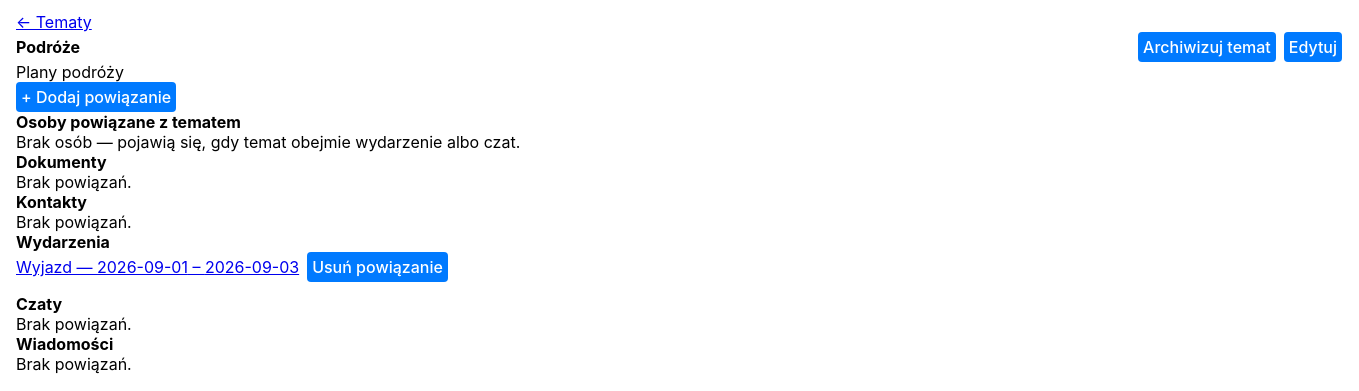
TopicDetail › archives and restores from presentation
The image size is (1359, 391).
Expected: the heading "Podróże" is shown, [16,37,80,57]
Click the button "Archiwizuj temat".
click(1207, 47)  # box [1138,32,1276,62]
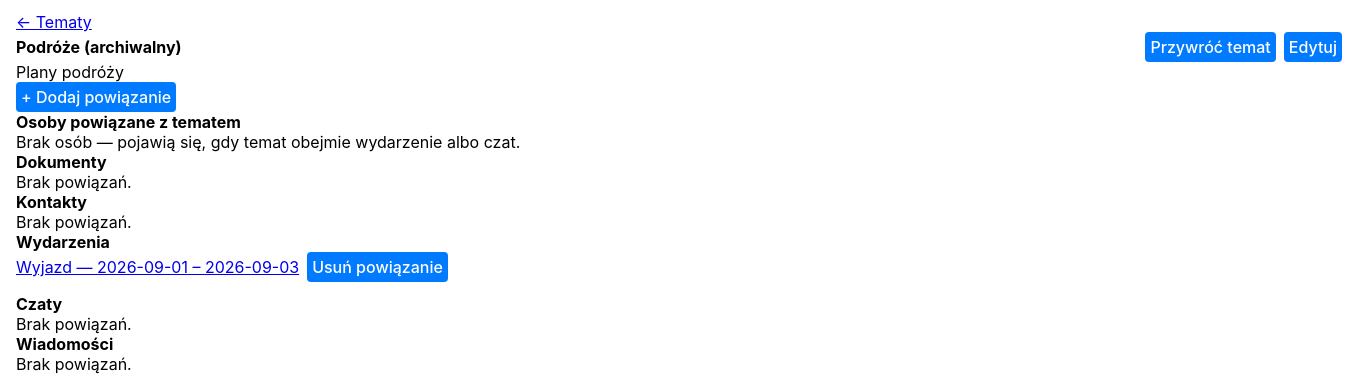
Click the button "Przywróć temat".
click(1211, 47)  # box [1146,32,1276,62]
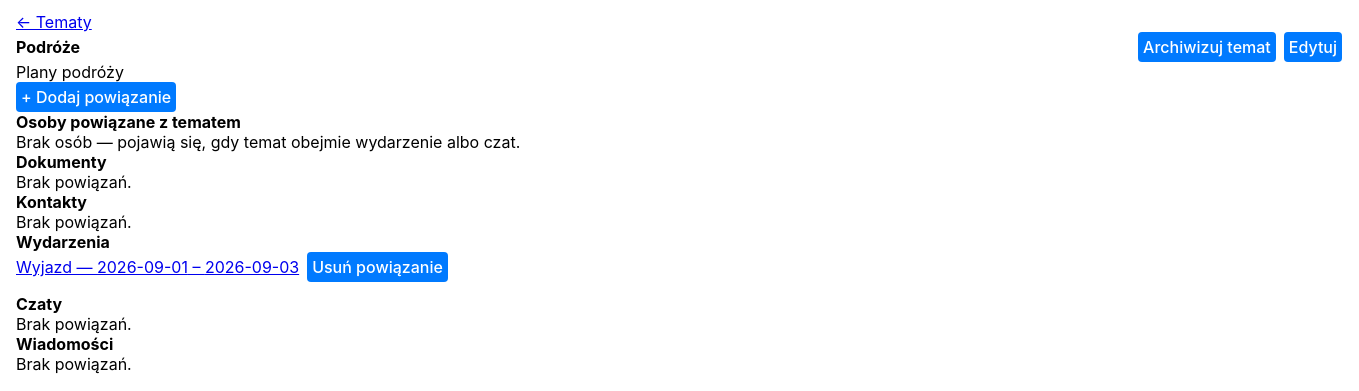
Now the button "Archiwizuj temat" is shown, box [1138,32,1276,62]
